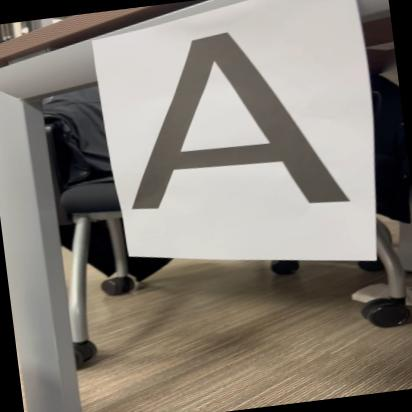seat: (106, 11, 362, 232)
